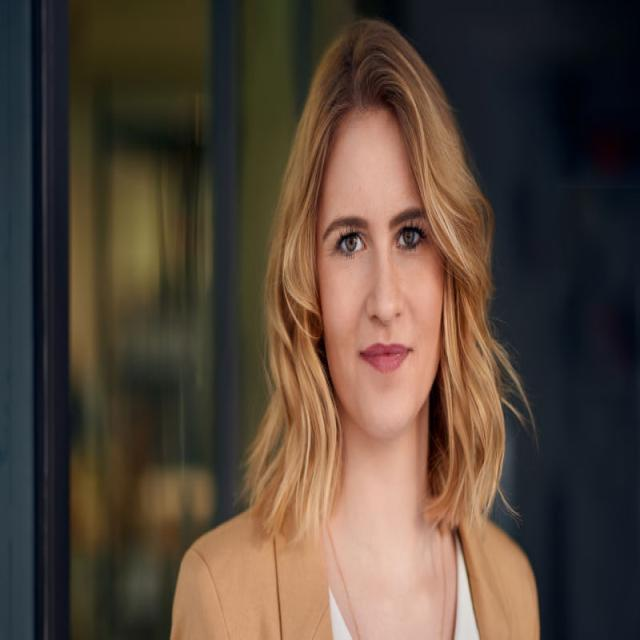mobile_phonerotation: (168, 17, 543, 637)
